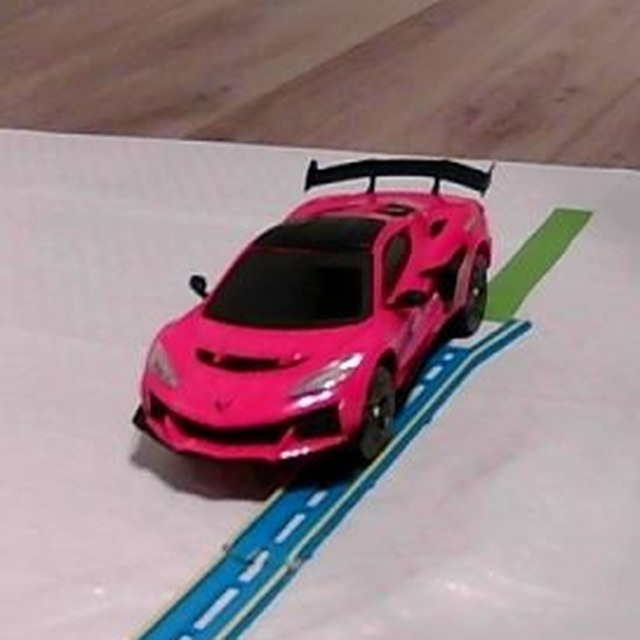tire_front_driver: (355, 375, 400, 455)
tire_rear_driver: (448, 270, 490, 335)
